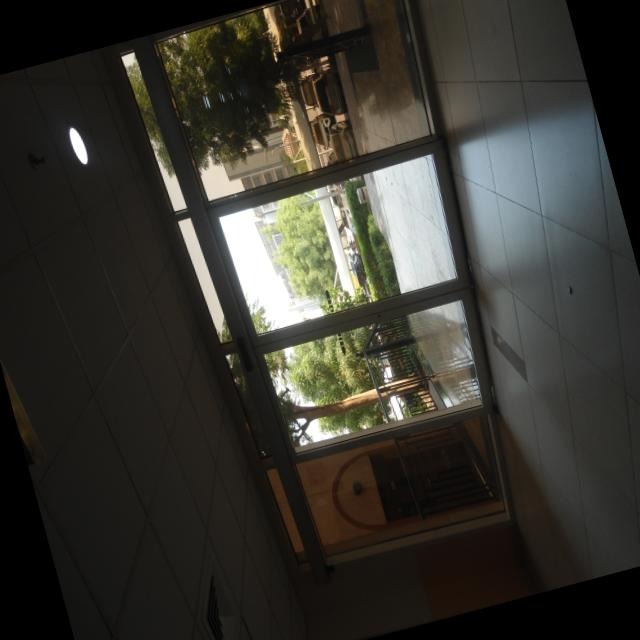door: (117, 0, 542, 575)
